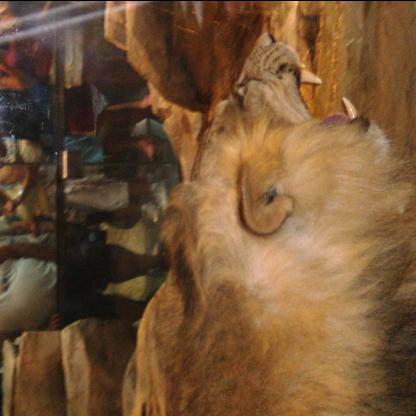lion: (182, 25, 393, 251)
